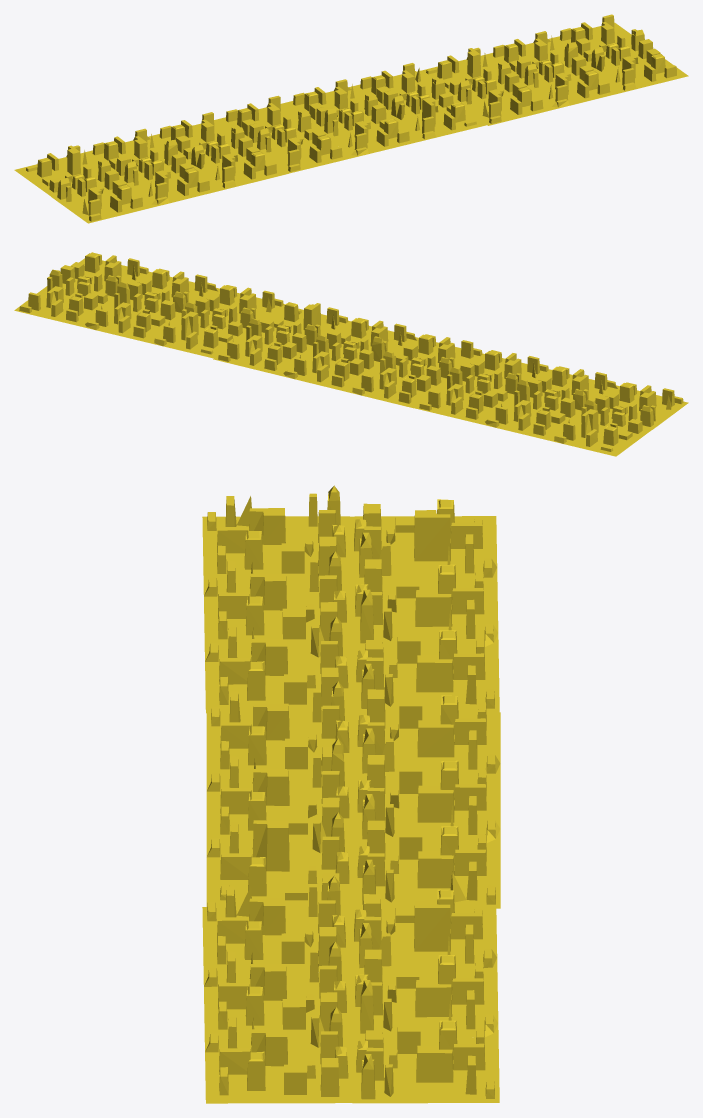
The model's file is BG_Buildings 1.fbx.
3 renders of one model, top to bottom at view 1: azimuth 30°, elevation 25°; view 2: azimuth 150°, elevation 25°; view 3: azimuth 270°, elevation 25°, orthographic. The views are drawn at different scales.
Visible parts, largest first — view 1: BG_Buildings.002; view 2: BG_Buildings.002; view 3: BG_Buildings.002.
Part boxes in pixels (x1,y1,x2,y2): BG_Buildings.002: [14, 14, 688, 223]; BG_Buildings.002: [14, 252, 688, 456]; BG_Buildings.002: [202, 485, 500, 1103].
Size of the model in its own units: 25396 by 907 by 5445.
